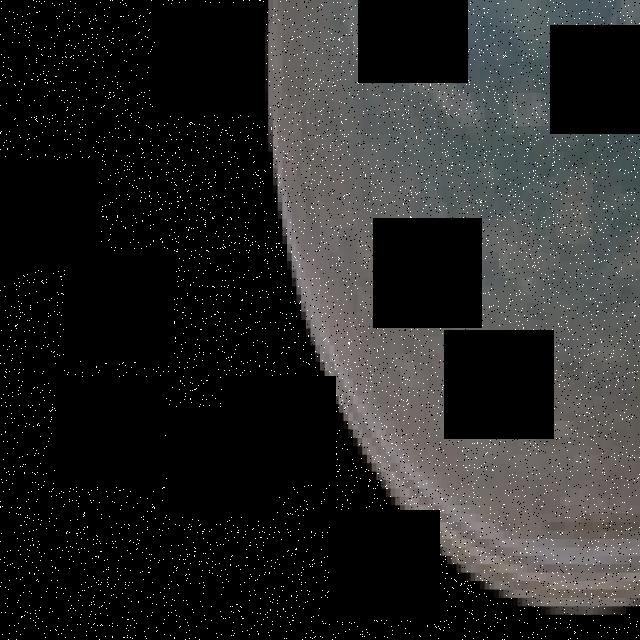Jupiter: (268, 1, 640, 614)
